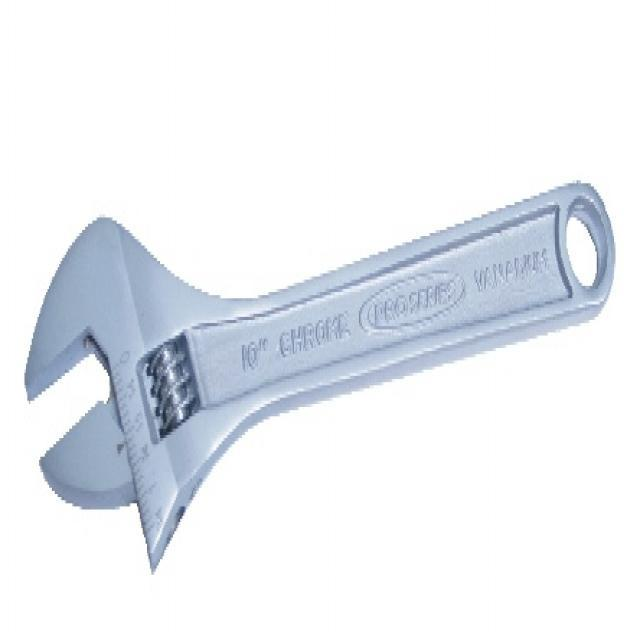wrench: (22, 166, 617, 584)
